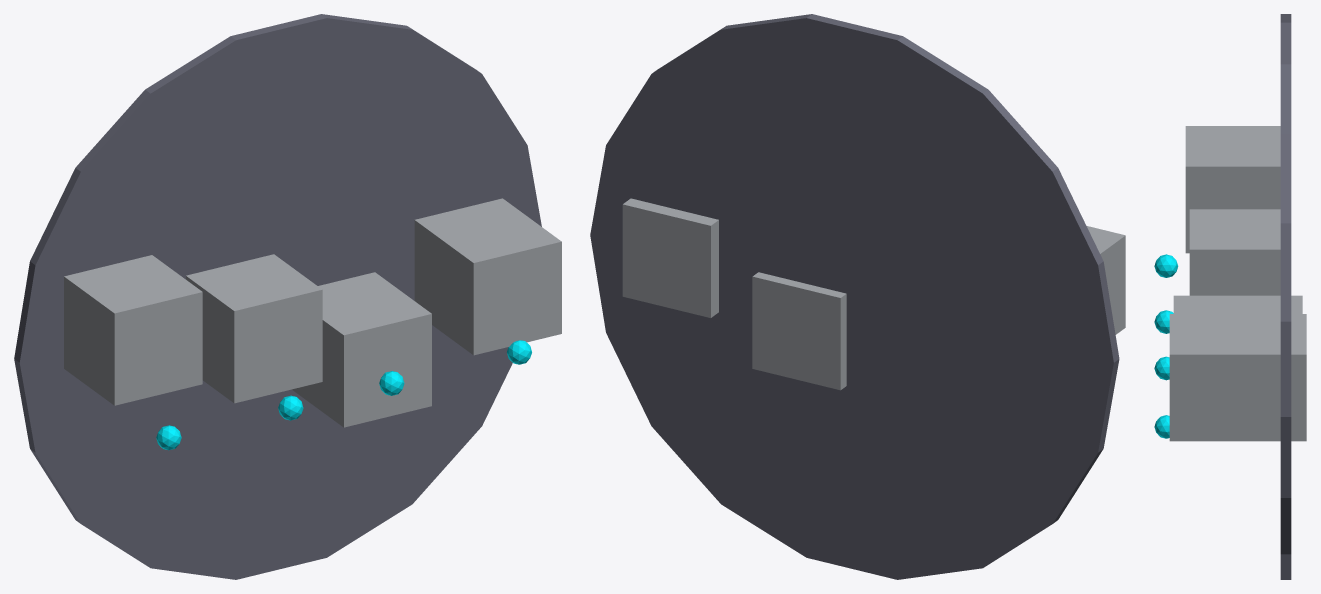
Rendered from 02_display_prop_cluster.glb.
The picture shows the model from 3 angles, left to right: view 1: azimuth 30°, elevation 25°; view 2: azimuth 150°, elevation 25°; view 3: azimuth 270°, elevation 25°; orthographic projection. The views are drawn at different scales.
Visible parts, largest first — view 1: scatter_base, tech_crate_3, tech_crate_0, tech_crate_1, tech_crate_2; view 2: scatter_base, tech_crate_3, tech_crate_2, tech_crate_0; view 3: tech_crate_3, tech_crate_0, tech_crate_1, scatter_base, tech_crate_2, status_light_0, status_light_1, status_light_3, status_light_2.
Part boxes in pixels (x1,y1,x2,y2): scatter_base: (14,14,541,579); tech_crate_3: (414,198,561,355); tech_crate_0: (64,255,202,405); tech_crate_1: (186,254,322,403); tech_crate_2: (292,272,431,427); scatter_base: (590,14,1119,579); tech_crate_3: (622,198,718,317); tech_crate_2: (752,272,846,390); tech_crate_0: (1086,226,1125,334); tech_crate_3: (1169,314,1306,441); tech_crate_0: (1185,126,1280,253); tech_crate_1: (1189,209,1280,295); scatter_base: (1280,14,1291,579); tech_crate_2: (1173,295,1302,313); status_light_0: (1154,254,1178,277); status_light_1: (1154,310,1173,333); status_light_3: (1154,415,1169,438); status_light_2: (1154,356,1169,380).
Bounding box in the file's own units: 1.9 × 1.87 × 0.509.
